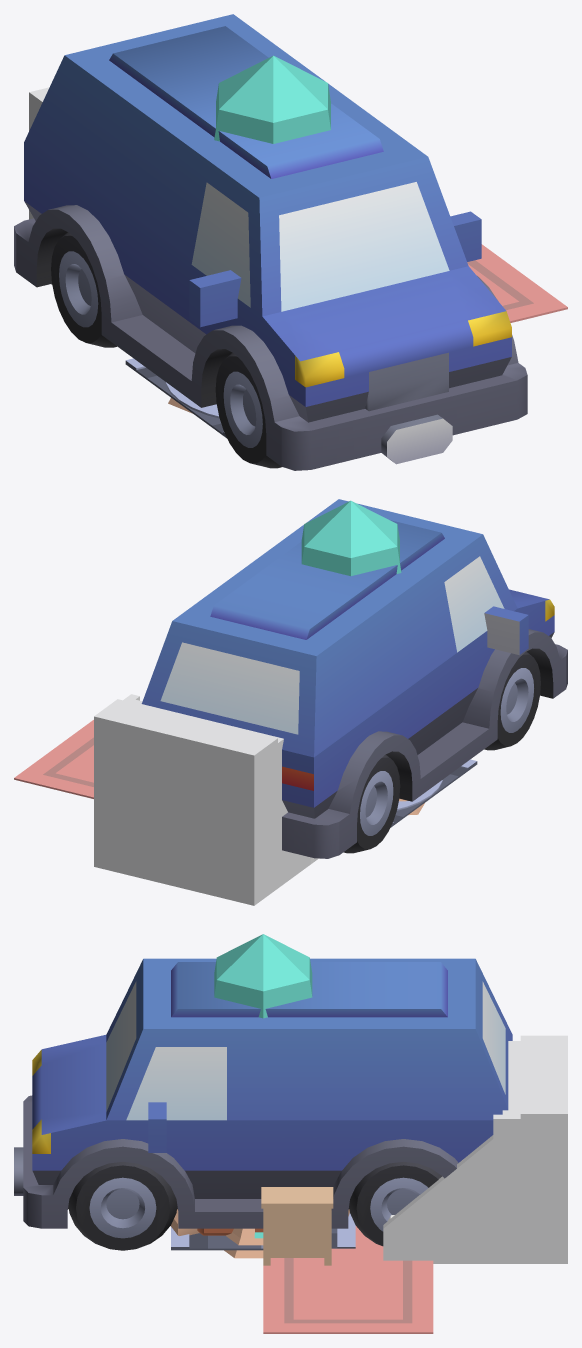
File: world.a45a3e8e66.glb
3 renders of one model, top to bottom at view 1: azimuth 30°, elevation 25°; view 2: azimuth 150°, elevation 25°; view 3: azimuth 270°, elevation 25°, orthographic. The views are drawn at different scales.
Parts seen in each view (by area): view 1: body, tree_default, wheel-front-right, wheel-back-right, rugRectangle(Clone), road-crossroad; view 2: body, grandStand(Clone), tree_default, rugRectangle(Clone), wheel-front-right, wheel-back-right, road-crossroad; view 3: body, grandStand(Clone), rugRectangle(Clone), wheel-front-left, tree_default, Mesh desk, wheel-back-left, road-crossroad, rock_tallA, road-end-round.
Part boxes in pixels (x1,y1,x2,y2): body: (14,14,527,470); tree_default: (214,55,330,143); wheel-front-right: (215,352,281,468); wheel-back-right: (51,232,116,347); rugRectangle(Clone): (467,244,567,322); road-crossroad: (125,359,226,438); body: (141,499,567,858); grandStand(Clone): (94,694,318,905); tree_default: (301,500,401,576); rugRectangle(Clone): (14,720,93,798); wheel-front-right: (484,651,540,750); wheel-back-right: (343,754,400,853); road-crossroad: (390,759,477,827); body: (14,958,512,1228); grandStand(Clone): (383,1035,567,1263); rugRectangle(Clone): (263,1226,433,1333); wheel-front-left: (68,1162,177,1250); tree_default: (214,934,312,1018); Mesh desk: (261,1187,333,1265); wheel-back-left: (349,1161,442,1246); road-crossroad: (171,1228,355,1250); rock_tallA: (224,1228,263,1258); road-end-round: (171,1213,355,1250).
Size of the model in its own units: 2.32 by 1.71 by 3.
Materials: 29 (3 with a texture image).
